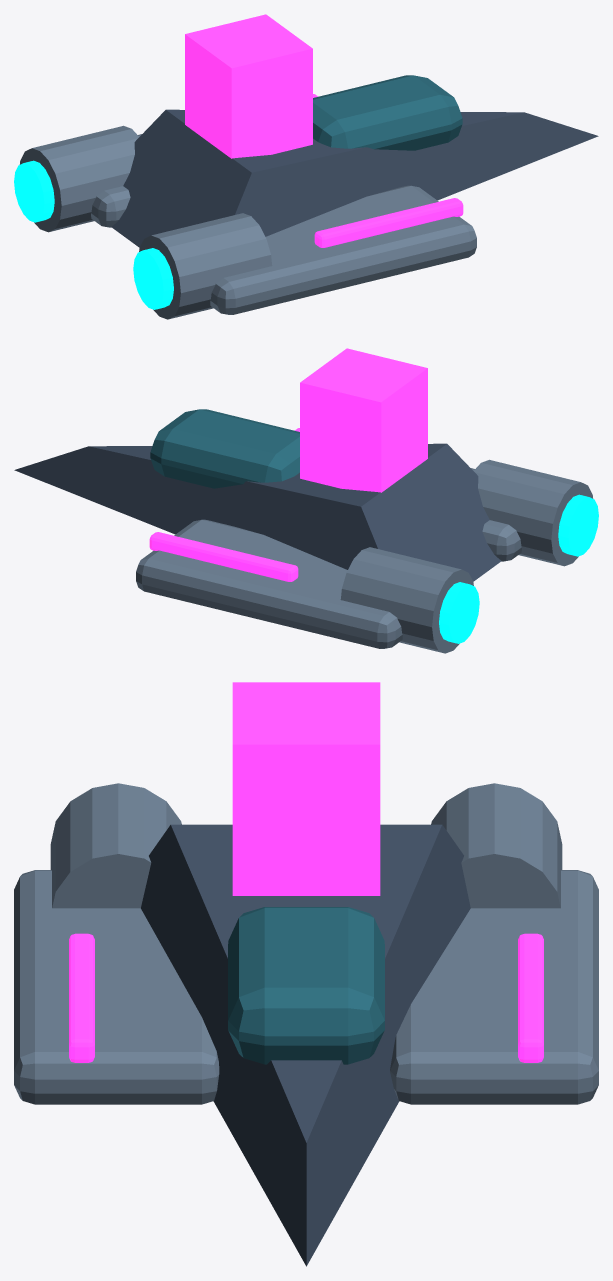
Rendered from ShuttleMagenta.fbx.
The picture shows the model from 3 angles, top to bottom: view 1: azimuth 30°, elevation 25°; view 2: azimuth 150°, elevation 25°; view 3: azimuth 270°, elevation 25°; orthographic projection. The views are drawn at different scales.
Visible parts, largest first — view 1: Cargo shuttle hull, Cargo crystal, Swept wing, Cockpit, Ion engine, Ion engine.001, Cargo stripe, Ion exhaust, Ion exhaust.001, Swept wing.001; view 2: Cargo shuttle hull, Cargo crystal, Swept wing.001, Cockpit, Ion engine.001, Ion engine, Cargo stripe.001, Ion exhaust.001, Ion exhaust, Swept wing; view 3: Cargo shuttle hull, Swept wing.001, Swept wing, Cargo crystal, Cockpit, Ion engine.001, Ion engine, Cargo stripe, Cargo stripe.001.
Part boxes in pixels (x1,y1,x2,y2): Cargo shuttle hull: (111,109,598,247); Cargo crystal: (185,14,312,158); Swept wing: (210,185,476,314); Cockpit: (313,75,462,150); Ion engine: (139,213,272,319); Ion engine.001: (19,125,138,232); Cargo stripe: (314,198,463,247); Ion exhaust: (133,248,173,309); Ion exhaust.001: (14,160,54,222); Swept wing.001: (91,134,141,227); Cargo shuttle hull: (14,443,501,581); Cargo crystal: (300,348,427,492); Swept wing.001: (136,519,402,648); Cockpit: (150,409,299,488); Ion engine.001: (340,547,473,653); Ion engine: (474,459,593,566); Cargo stripe.001: (149,532,298,581); Ion exhaust.001: (439,582,479,643); Ion exhaust: (558,494,598,556); Swept wing: (471,468,521,561); Cargo shuttle hull: (141,824,470,1266); Swept wing.001: (390,870,598,1104); Swept wing: (14,870,219,1104); Cargo crystal: (232,682,380,895); Cockpit: (228,907,384,1064); Ion engine.001: (431,783,562,908); Ion engine: (50,783,181,908); Cargo stripe: (69,933,94,1062); Cargo stripe.001: (518,933,543,1062).
Bounding box in the file's own units: 88.9 × 32.5 × 56.
